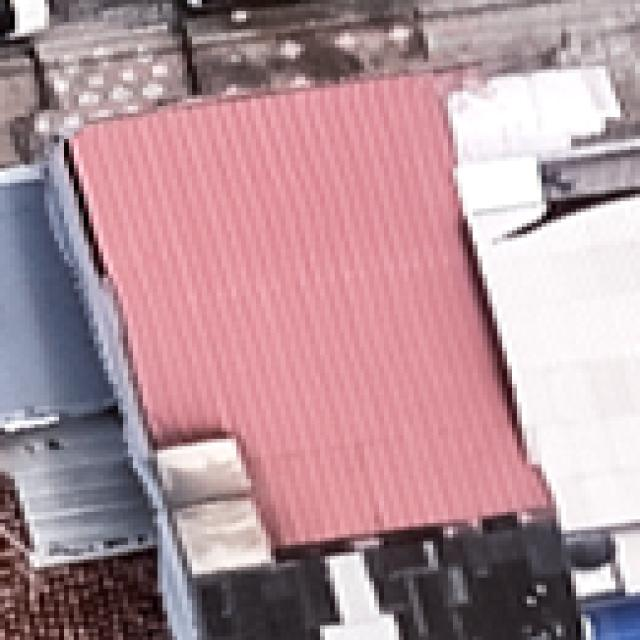Batiment: (67, 74, 552, 547)
